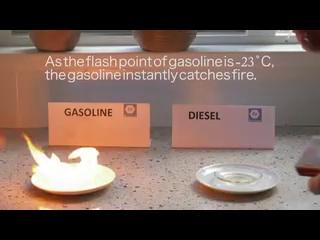Fire: (23, 124, 103, 187)
